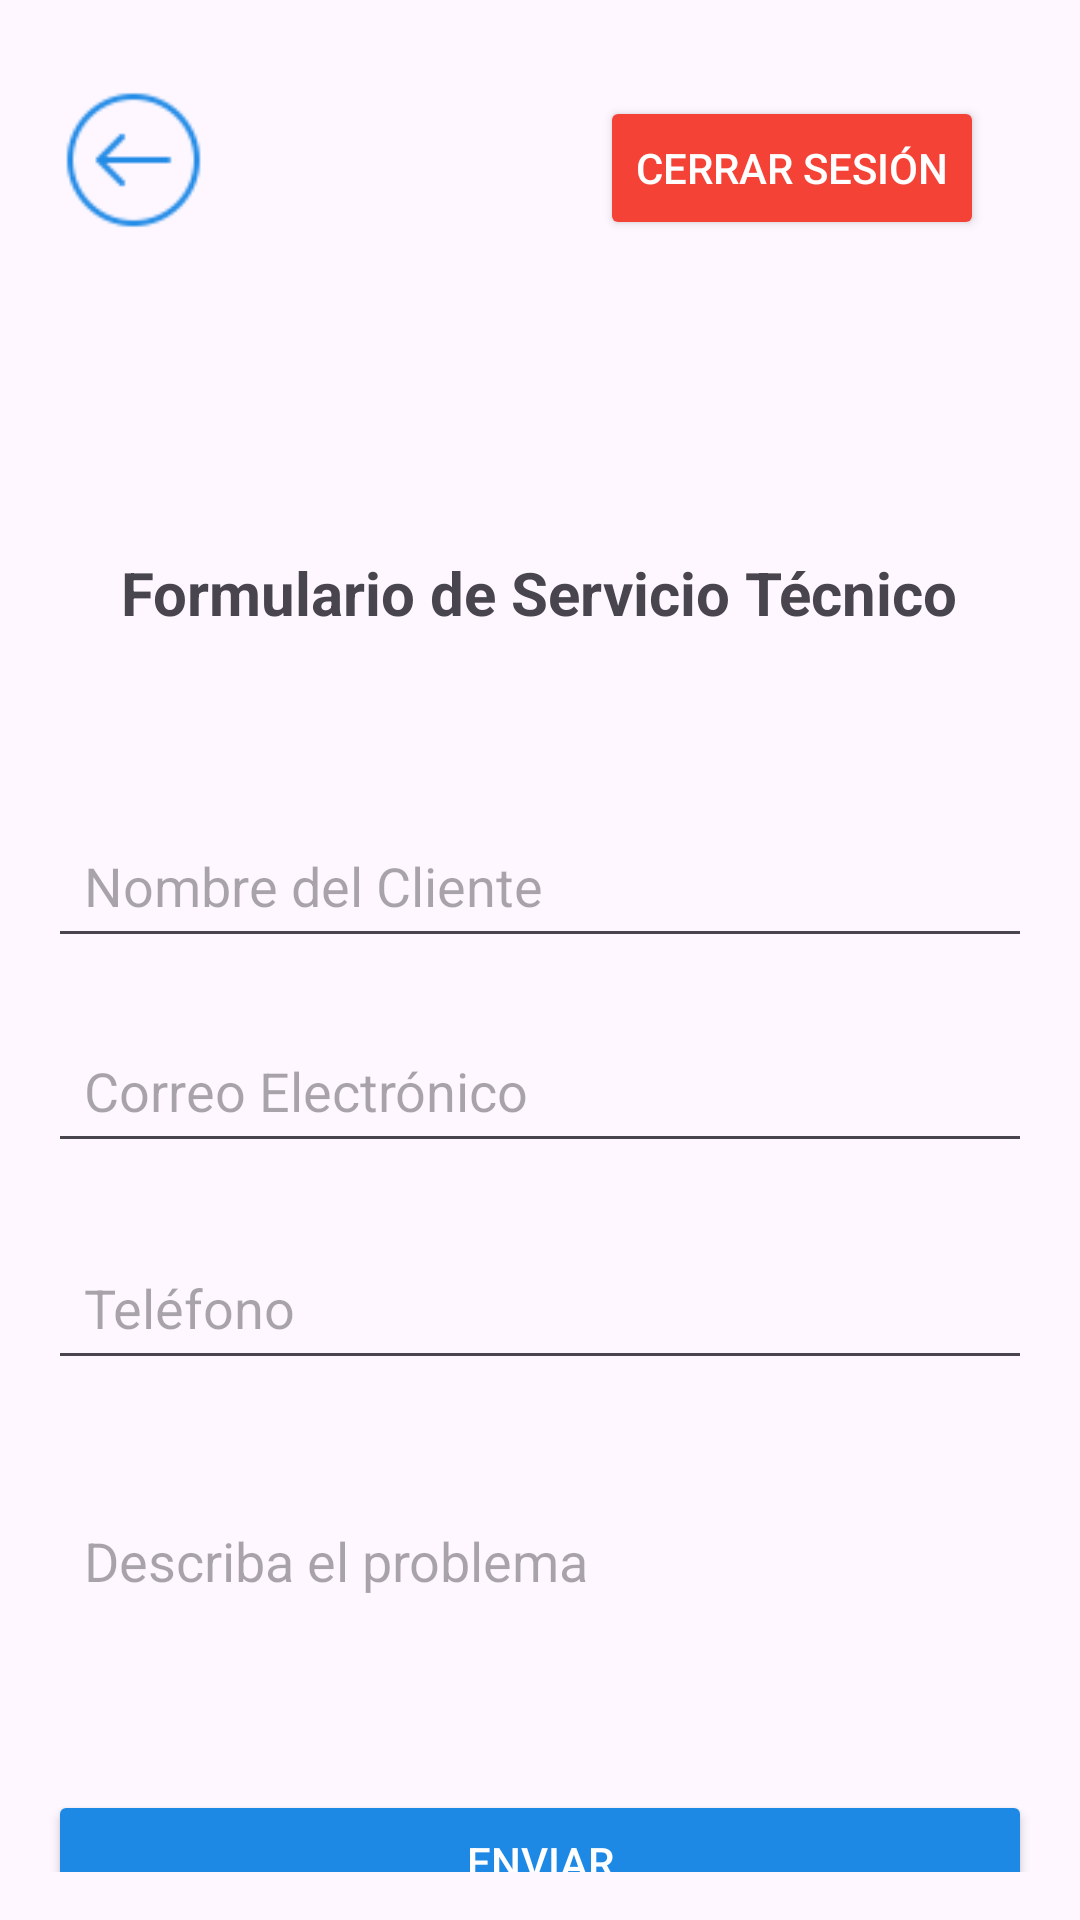

Screen size 1080x1920. Icon name, then its box in pixels as (x1, y1, x2, y2):
Retroceder: (66, 93, 201, 227)
